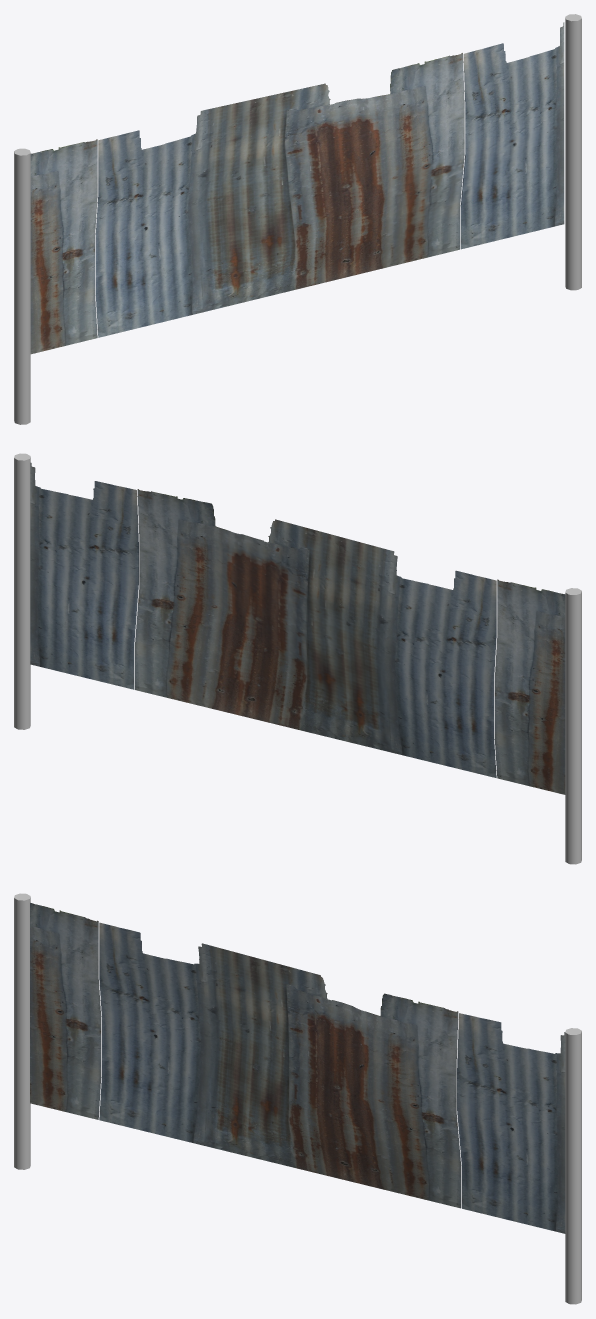
The model's file is MetalFence02.DAE.
3 renders of one model, top to bottom at view 1: azimuth 30°, elevation 25°; view 2: azimuth 150°, elevation 25°; view 3: azimuth 330°, elevation 25°, orthographic.
Parts seen in each view (by area): view 1: MetalFenceTwo256; view 2: MetalFenceTwo256; view 3: MetalFenceTwo256.
Part boxes in pixels (x1=…): MetalFenceTwo256: x1=14, y1=14, x2=581, y2=424; MetalFenceTwo256: x1=14, y1=453, x2=581, y2=864; MetalFenceTwo256: x1=14, y1=893, x2=581, y2=1304.
Size of what is drawn, in the model's own units: 3.76 by 0.1663 by 1.71.
